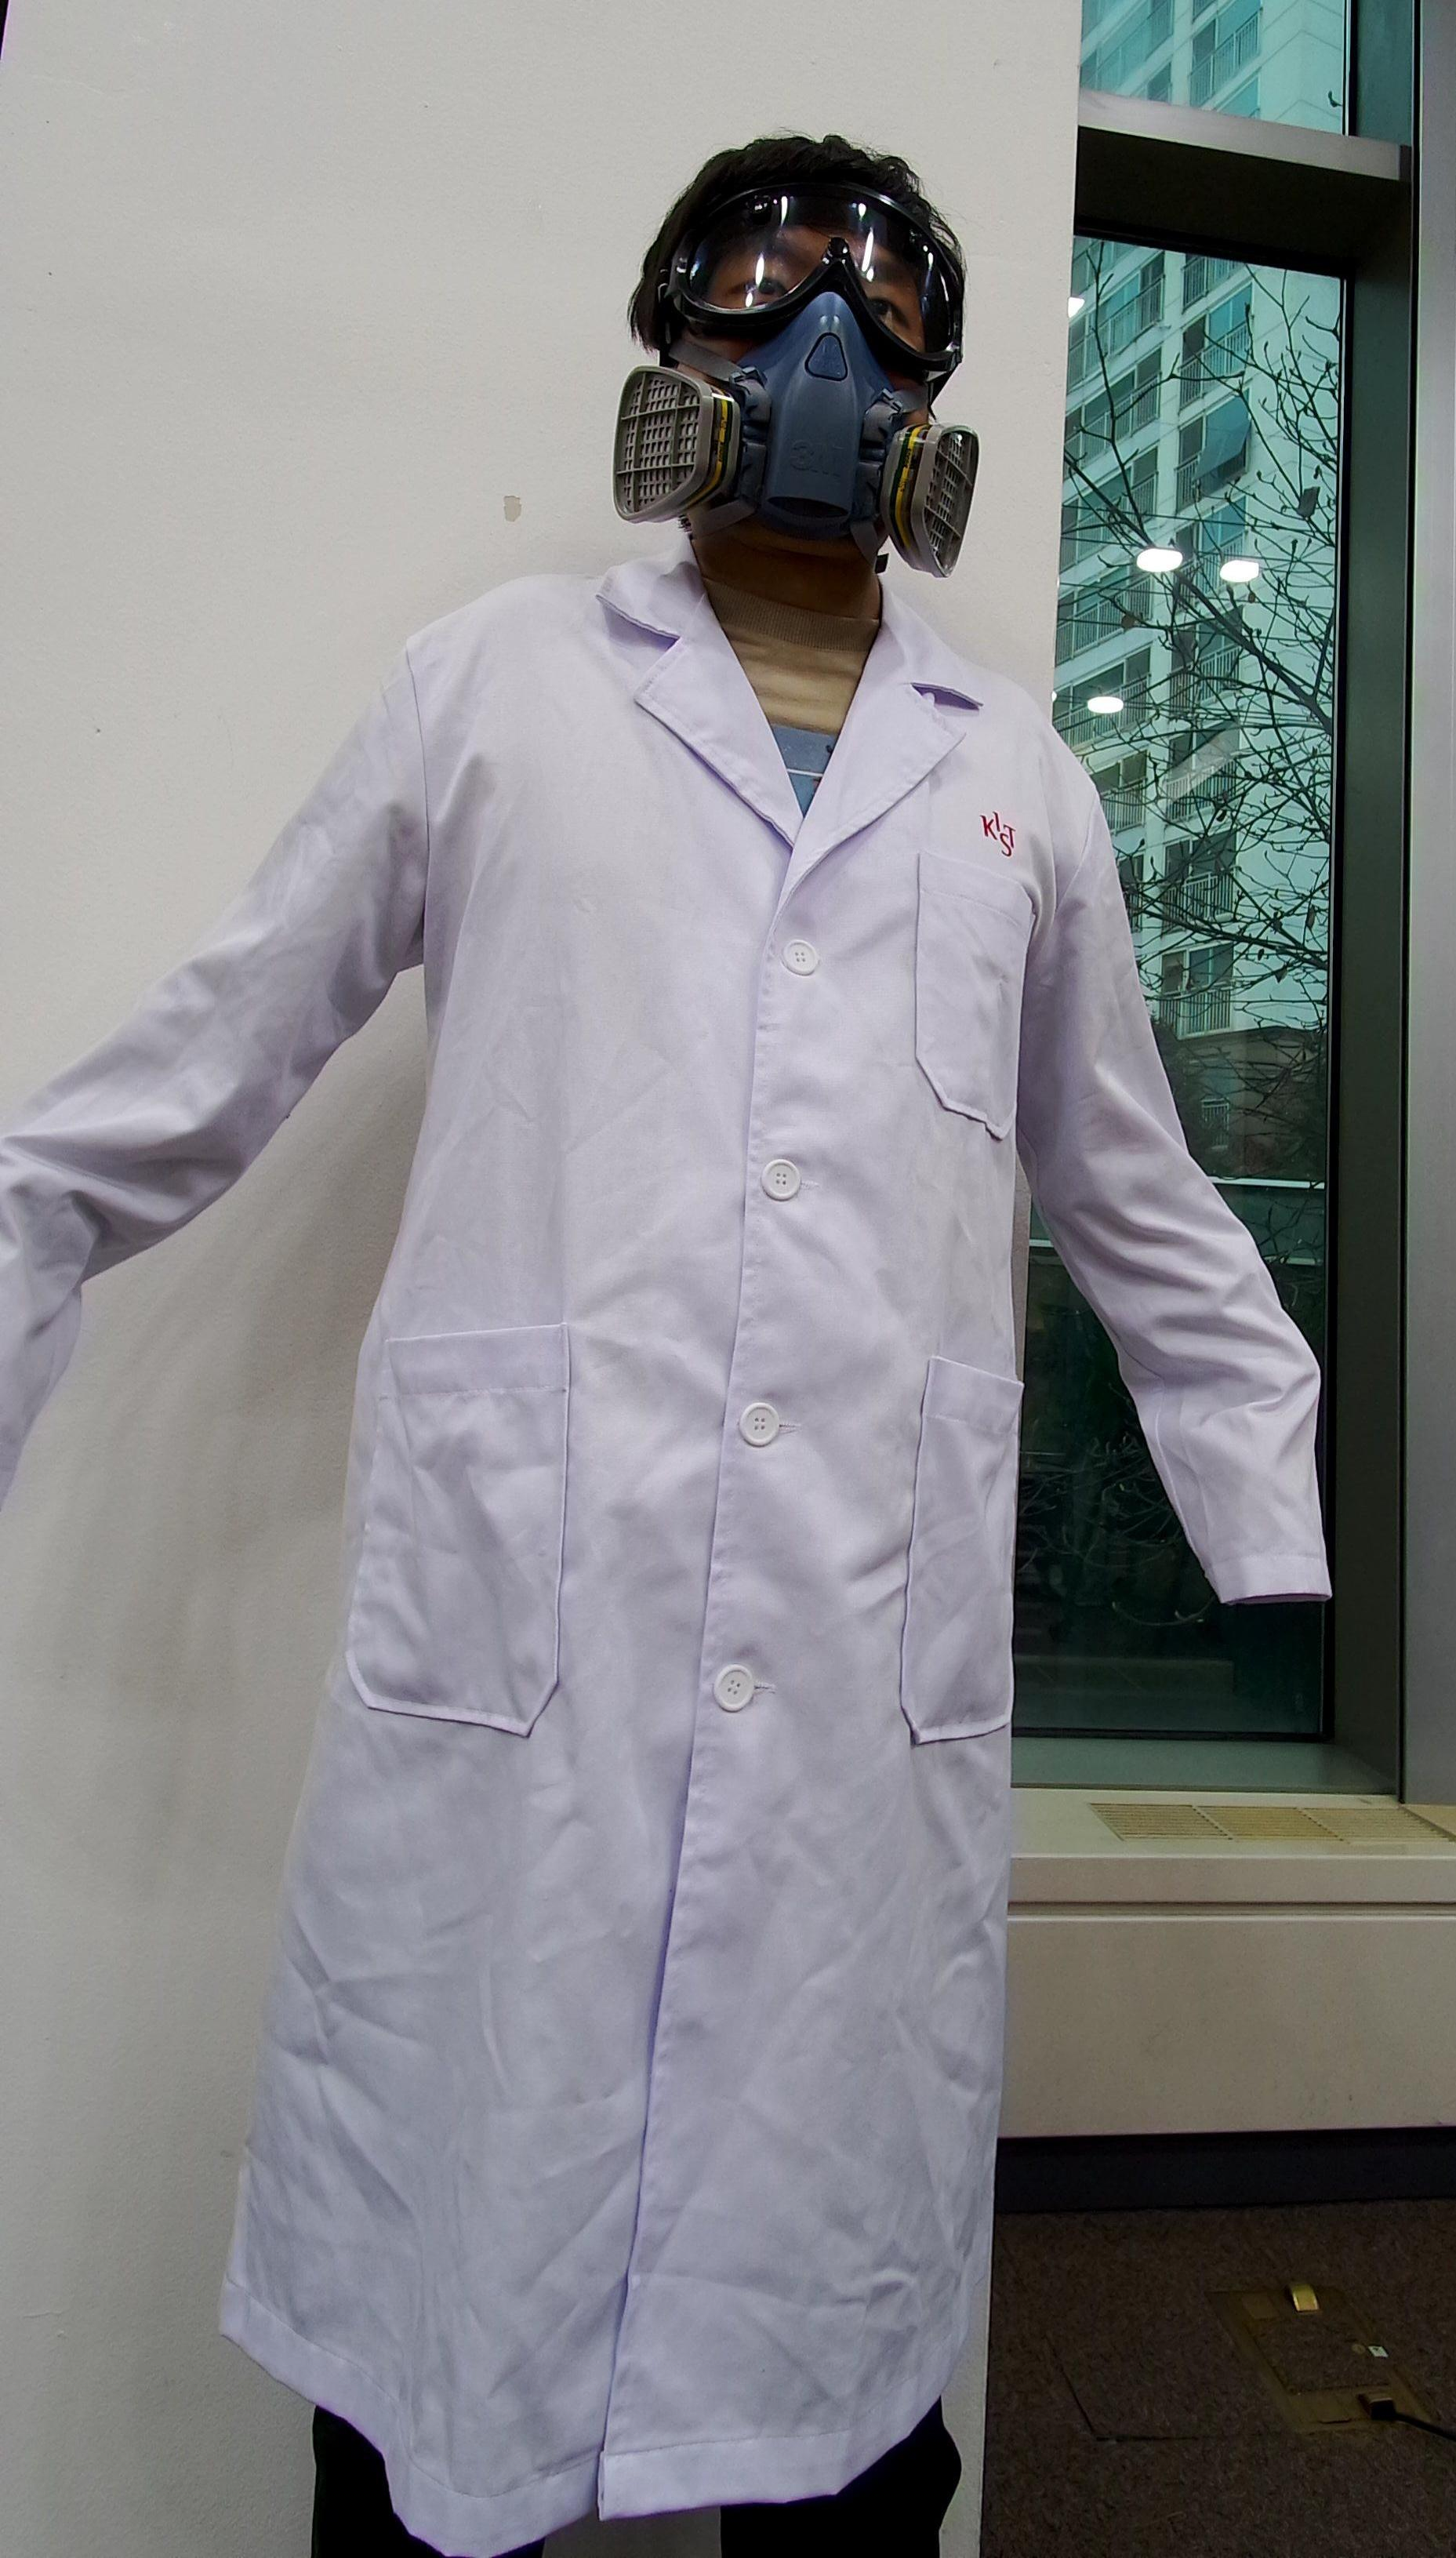lab_coat: (25, 582, 1315, 2518)
